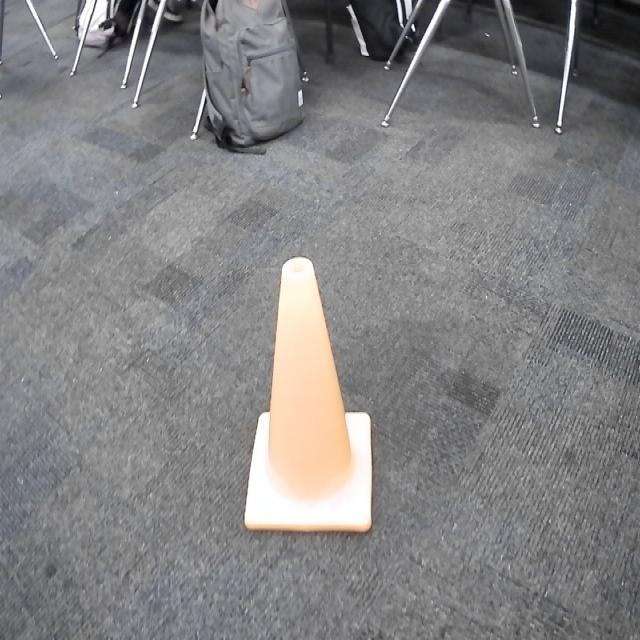cone: (246, 255, 372, 537)
